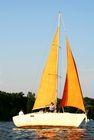fanchuan: (9, 9, 93, 131)
